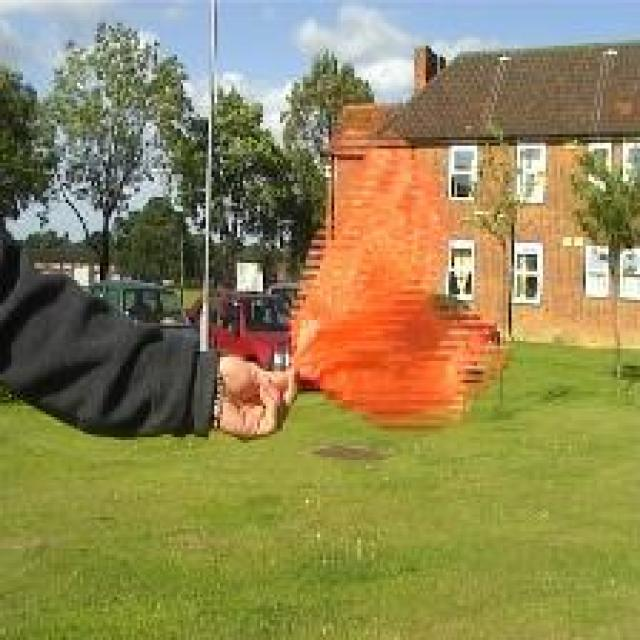other: (280, 139, 520, 437)
